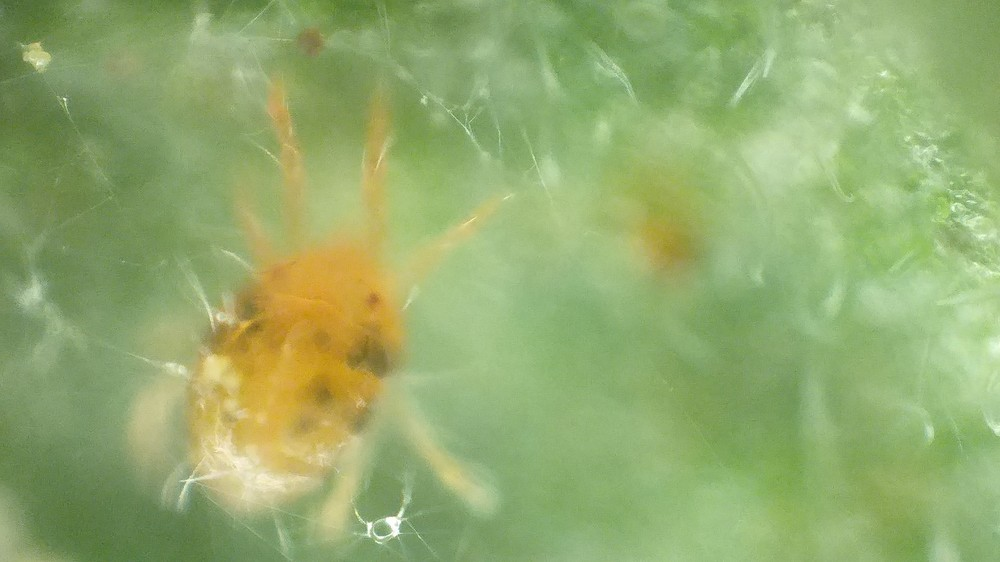Aracnido Rojo: (145, 81, 513, 552)
